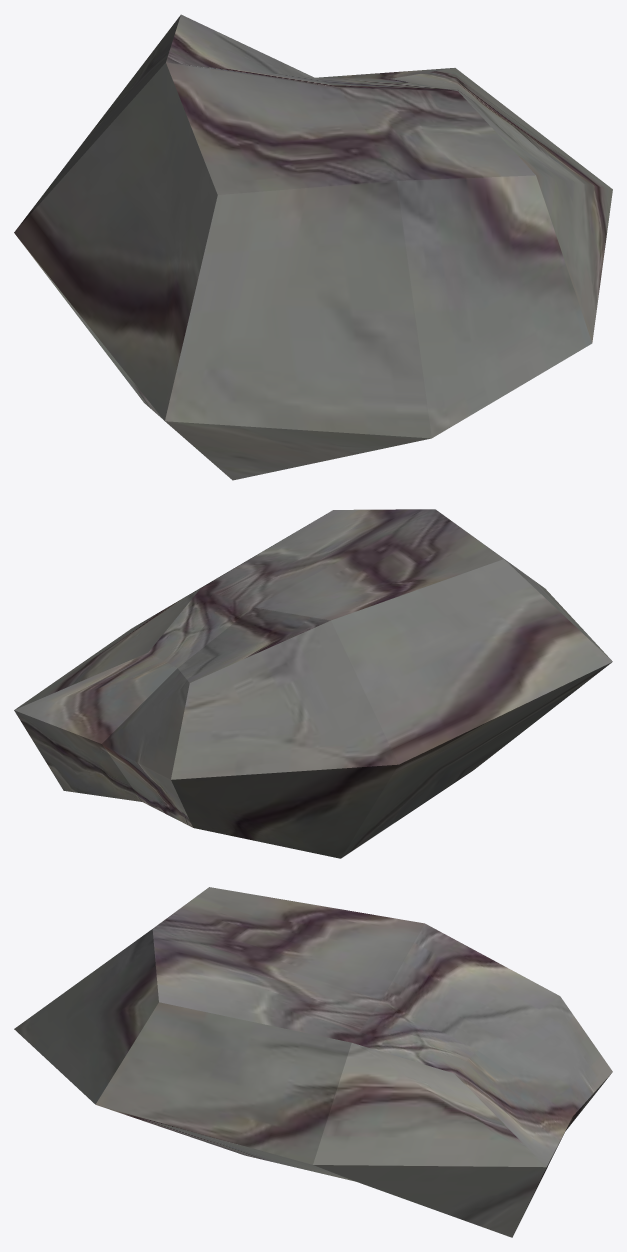
The model's file is Rock.fbx.
3 renders of one model, top to bottom at view 1: azimuth 30°, elevation 25°; view 2: azimuth 150°, elevation 25°; view 3: azimuth 270°, elevation 25°, orthographic. The views are drawn at different scales.
Visible parts, largest first — view 1: Cube.002; view 2: Cube.002; view 3: Cube.002.
Boxes of the visible parts, box(x1,y1,x2,y2) form: Cube.002: box(14, 14, 612, 480); Cube.002: box(14, 509, 612, 858); Cube.002: box(14, 887, 612, 1237).
Bounding box in the file's own units: 229 × 132 × 288.
